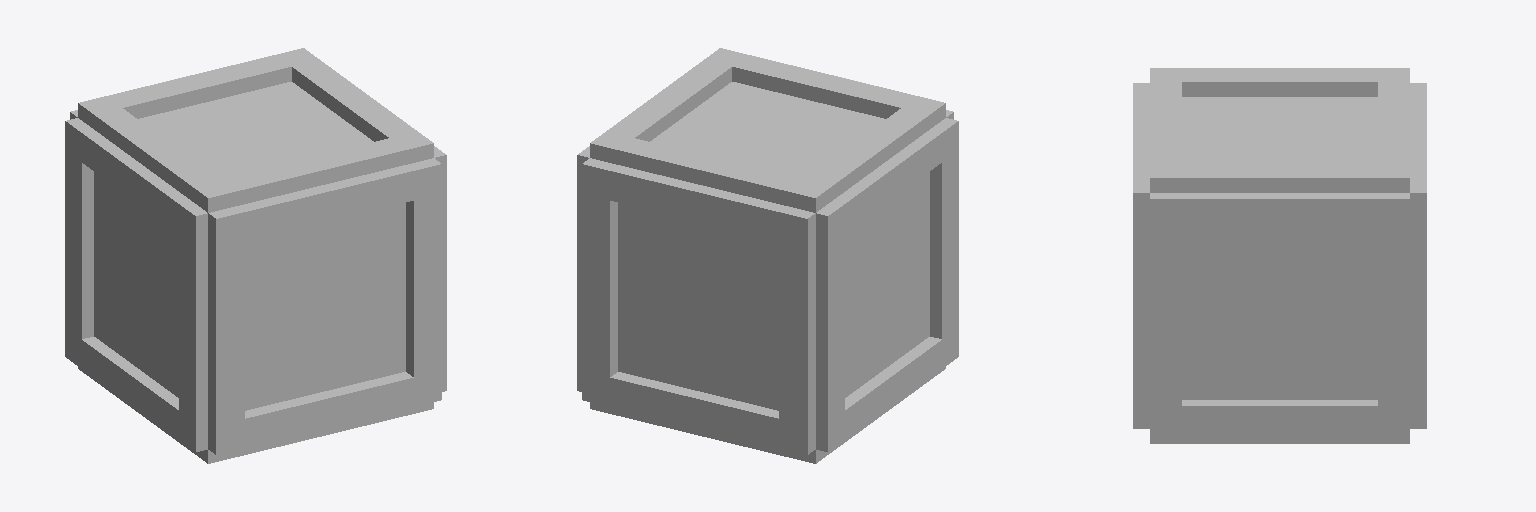
Rendered from TestModel.obj.
3 views of the same model, side by side, from view 1: azimuth 30°, elevation 25°; view 2: azimuth 150°, elevation 25°; view 3: azimuth 270°, elevation 25° (orthographic).
Visible parts, largest first — view 1: cube, Cube_Main; view 2: cube, Cube_Main; view 3: cube, Cube_Main.
Part boxes in pixels (x1,y1,x2,y2): cube: (65, 48, 446, 463); Cube_Main: (94, 82, 405, 410); cube: (577, 48, 958, 463); Cube_Main: (618, 82, 929, 410); cube: (1133, 68, 1426, 443); Cube_Main: (1182, 97, 1377, 399).
Size of the model in its own units: 0.5562 by 0.5625 by 0.5625.